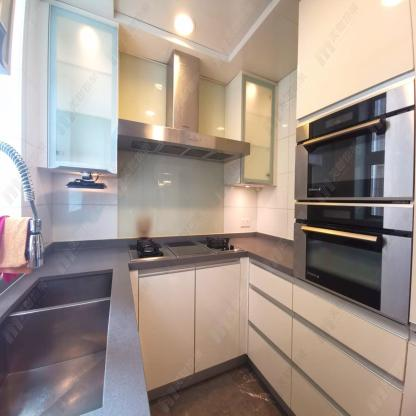Cupboard: (47, 0, 118, 175)
Exhaust Hood: (117, 116, 250, 164)
Faucet: (0, 141, 45, 277)
Oven: (294, 77, 415, 202), (292, 204, 414, 324)
Sink: (0, 262, 151, 416)
Stove: (126, 235, 176, 265), (191, 233, 250, 255)
